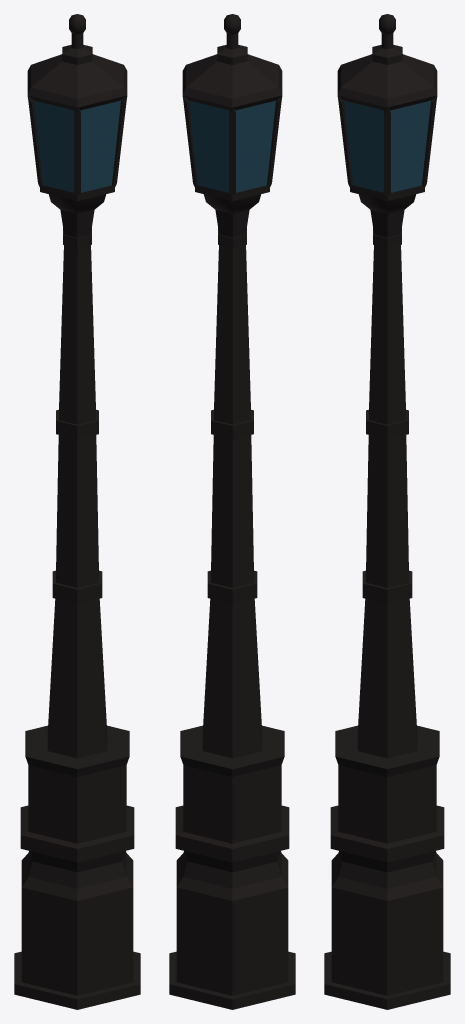
File: Lamp 1.fbx
The picture shows the model from 3 angles, left to right: view 1: azimuth 90°, elevation 25°; view 2: azimuth 150°, elevation 25°; view 3: azimuth 330°, elevation 25°; orthographic projection.
Visible parts, largest first — view 1: pCylinder1 (×2); view 2: pCylinder1 (×2); view 3: pCylinder1 (×2).
Part boxes in pixels (bbox=[...]): pCylinder1 (×2): bbox=[14, 14, 140, 1009]; pCylinder1 (×2): bbox=[169, 14, 295, 1009]; pCylinder1 (×2): bbox=[324, 14, 450, 1009].
Size of the model in its own units: 1.79 by 13.11 by 1.55.
